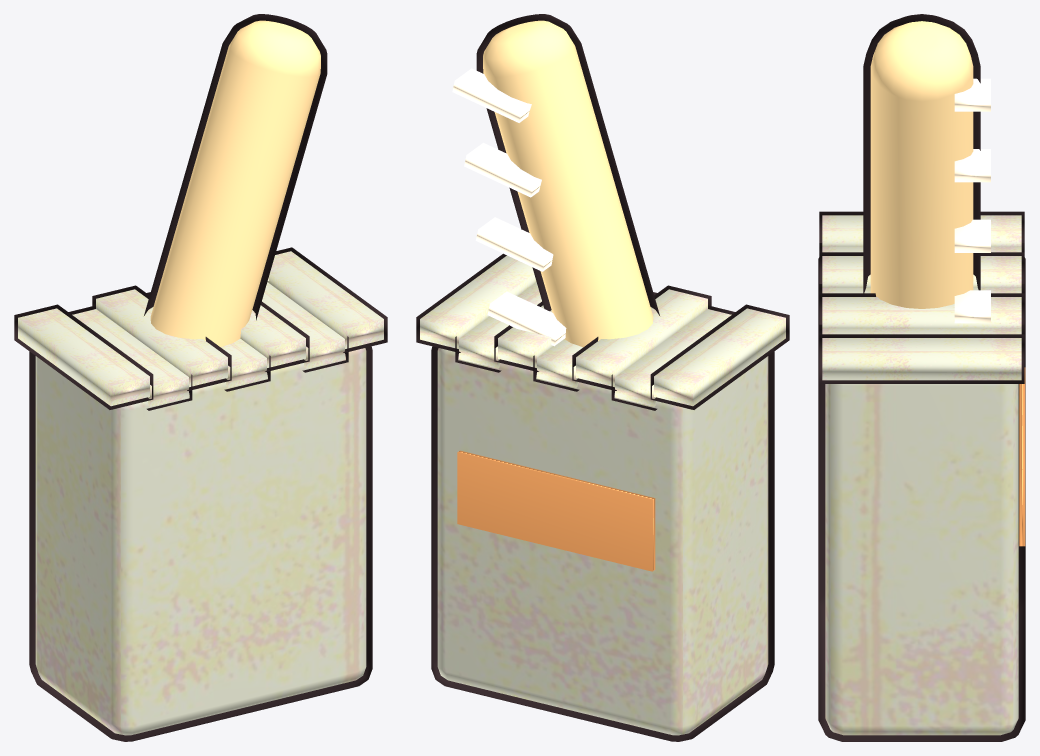
File: sacchetto_forno.glb
The picture shows the model from 3 angles, left to right: view 1: azimuth 30°, elevation 25°; view 2: azimuth 150°, elevation 25°; view 3: azimuth 270°, elevation 25°; orthographic projection. The views are drawn at different scales.
Parts seen in each view (by area): view 1: Cube.039, Cylinder.022, Cube.040, Cube.046, Cube.042, Cube.041, Cube.044, Cube.045, Cube.043; view 2: Cube.039, Cylinder.022, Cube.047, Cube.040, Cube.046, Cube.042, Cube.041, Cube.049, Cube.045, Cube.048, Cube.050, Cube.051 (+2 smaller); view 3: Cube.039, Cylinder.022, Cube.046, Cube.044, Cube.042, Cube.040, Cube.045, Cube.048, Cube.047, Cube.049, Cube.050, Cube.051 (+2 smaller).
Part boxes in pixels (x1,y1,x2,y2): Cube.039: (29,346,372,741); Cylinder.022: (144,14,327,347); Cube.040: (14,304,153,409); Cube.046: (267,247,387,352); Cube.042: (92,285,231,390); Cube.041: (68,305,192,410); Cube.044: (240,301,309,371); Cube.045: (262,282,348,372); Cube.043: (147,292,270,391); Cube.039: (431,346,774,741); Cylinder.022: (476,14,659,347); Cube.047: (457,450,655,571); Cube.040: (650,304,789,409); Cube.046: (416,253,536,352); Cube.042: (572,285,711,390); Cube.041: (611,305,735,410); Cube.049: (475,217,553,271); Cube.045: (455,282,541,372); Cube.048: (487,291,566,346); Cube.050: (464,142,541,197); Cube.051: (452,68,531,122); Cube.039: (818,257,1025,741); Cylinder.022: (863,14,980,308); Cube.046: (819,334,1024,383); Cube.044: (819,293,1024,328); Cube.042: (819,252,1024,287); Cube.040: (819,211,1024,246); Cube.045: (819,324,1024,334); Cube.048: (954,290,990,323); Cube.047: (1019,367,1025,546); Cube.049: (954,219,990,252); Cube.050: (954,149,990,182); Cube.051: (954,78,990,111).
Size of the model in its own units: 0.2846 by 0.636 by 0.1716.
Materials: 5 (1 with a texture image).
